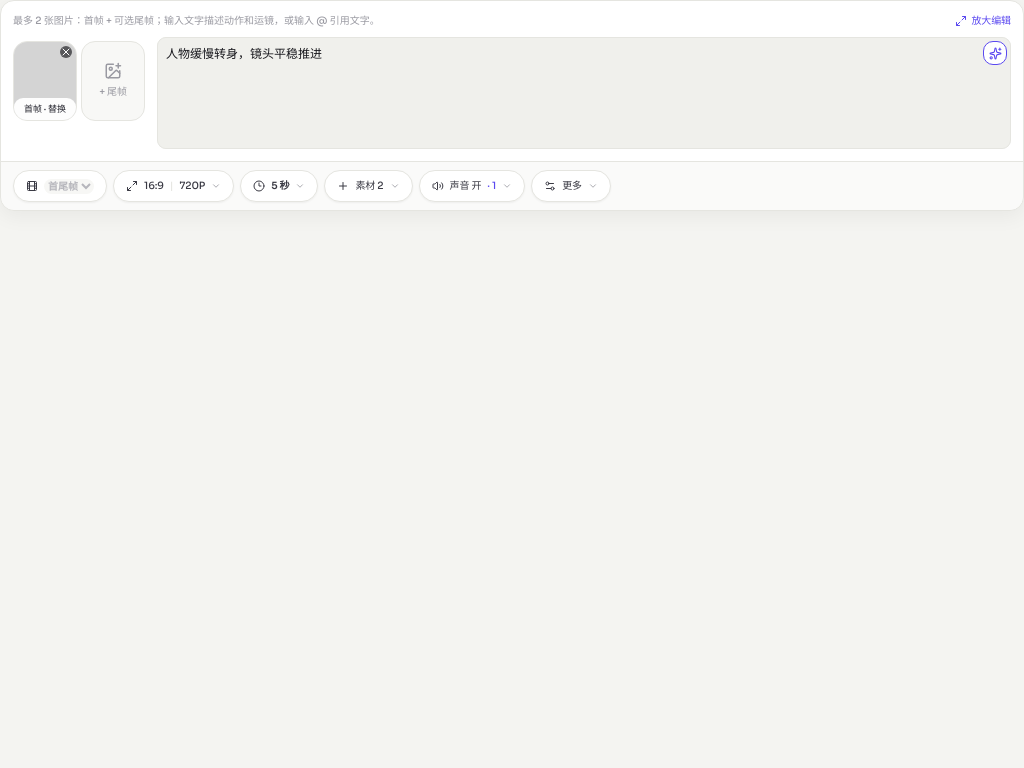
Test case: Seedance 1.5 Pro controls › uses dedicated first/last-frame UI and retains reference dubbing without the 2.0 warning
This screenshot has width=1024, height=768.
Expected: the text "最多 2 张图片：首帧 + 可选尾帧；输入文字描述动作和运镜，或输入 @ 引用文字。" is shown, [13, 13, 380, 29]
Expected: the text "参考配音" is not shown
Click the button with aria-label "声音与参考配音". click: [472, 186]
box: [418, 170, 525, 202]
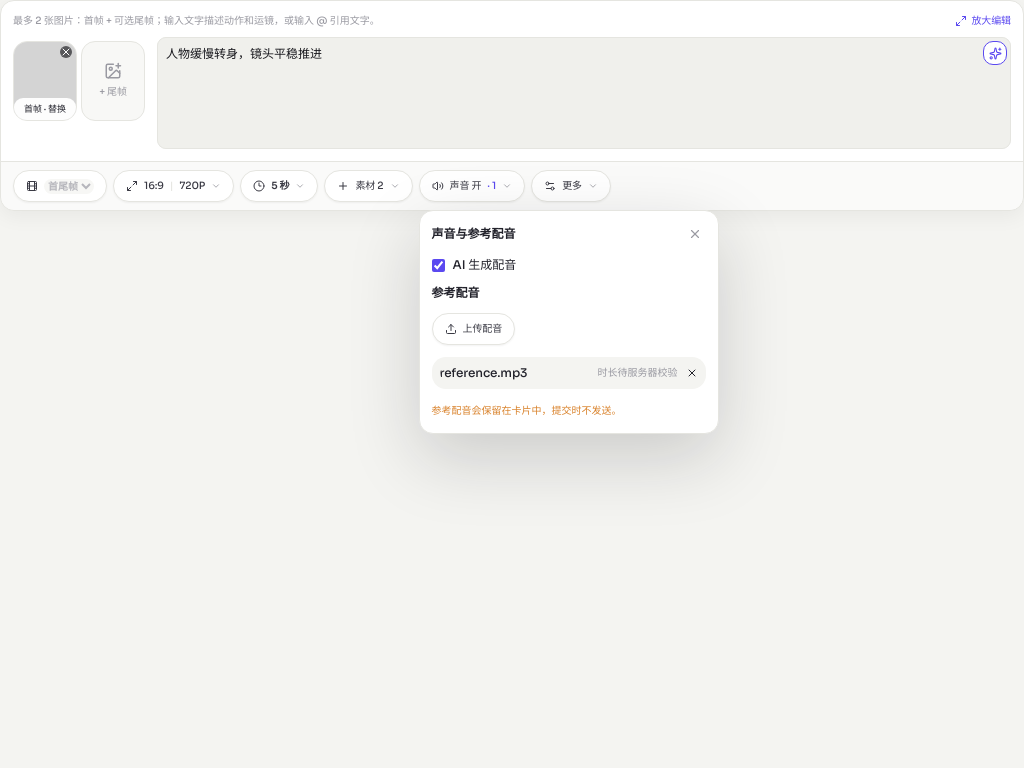
Expected: the button titled "添加尾帧" is shown, [82, 42, 144, 120]
Expected: the text "参考配音" is shown, [432, 285, 480, 300]
Expected: the button "reference.mp3" is shown, [440, 365, 590, 381]
Click the button named "画面规格". click: [174, 186]
box: [113, 170, 234, 202]
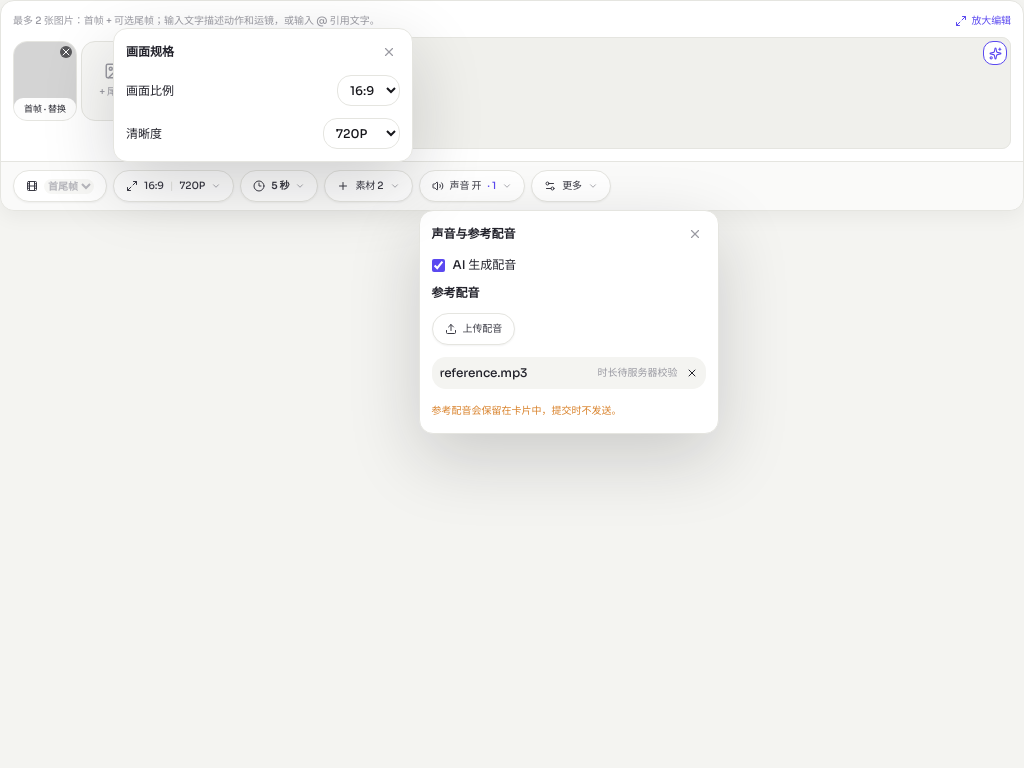
Expected: the dropdown named "Seedance 1.5 画面比例" shows "16:9", [337, 75, 400, 106]
